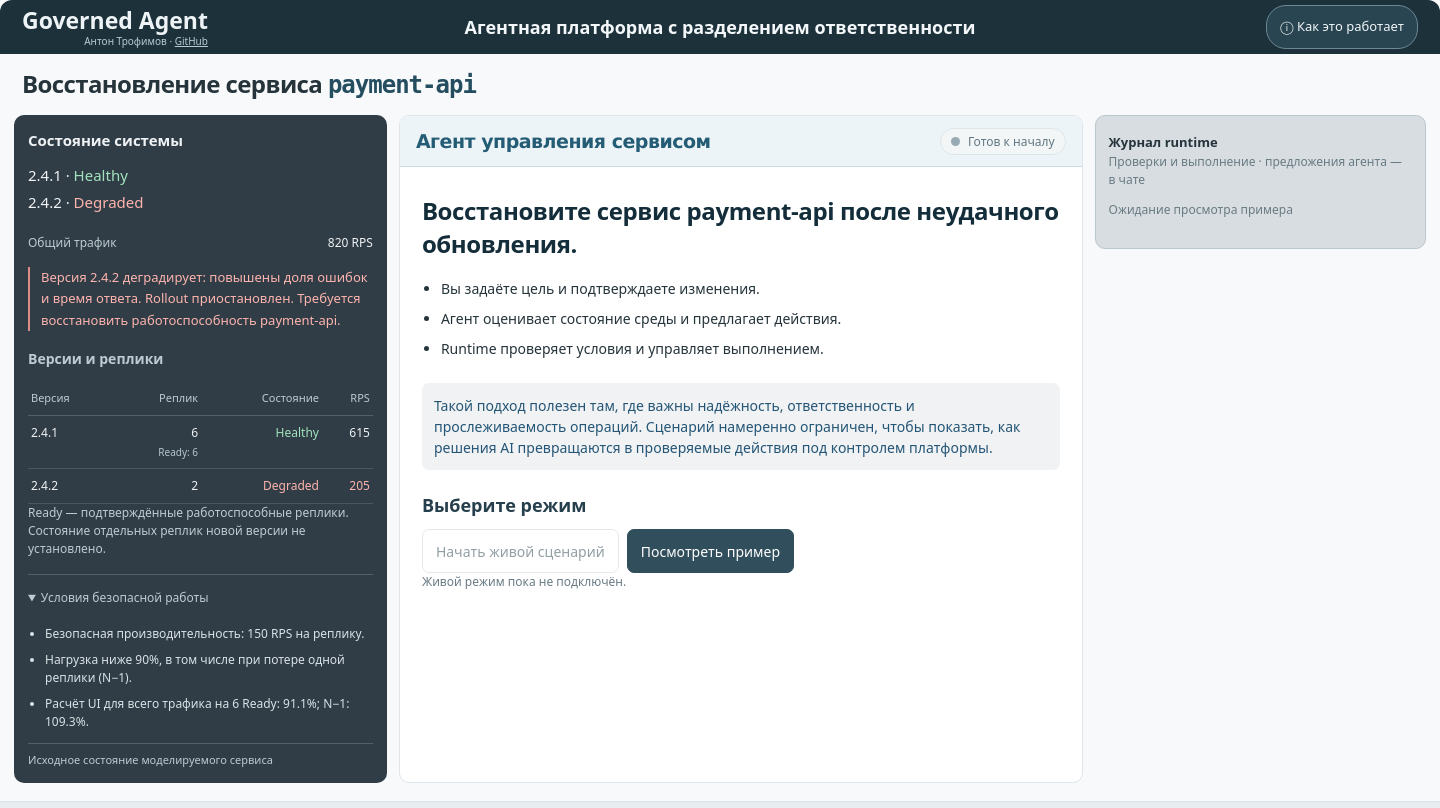
it: replays observations without leaking final state and resets to the initial observation
Click the button "Посмотреть пример". click: (710, 551)
box: [627,529,794,573]
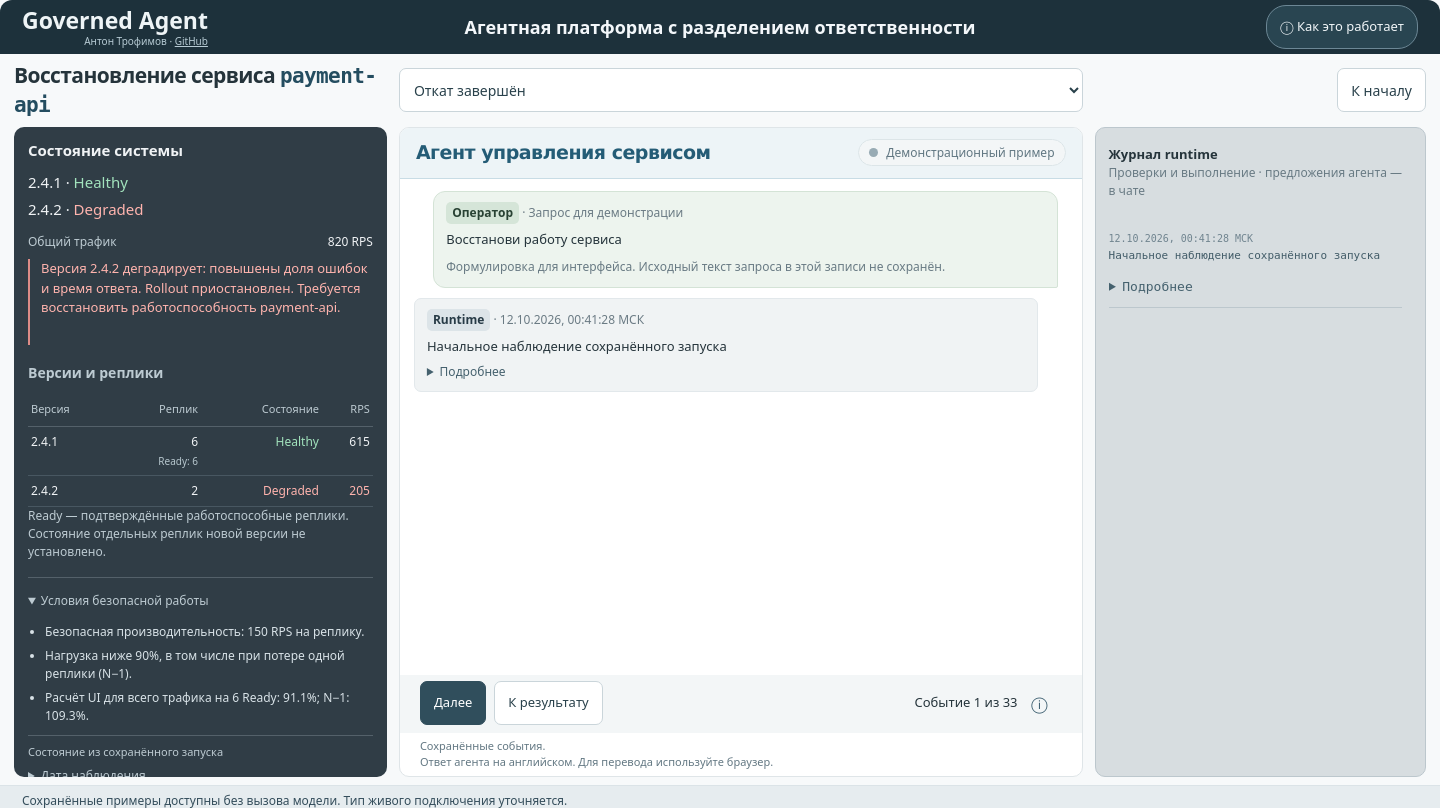
Expected: the text "615" is shown, [349,433,370,450]
Expected: the button "Подтвердить" is not shown
Click the button "Далее". click: (453, 703)
box: [420,681,486,725]
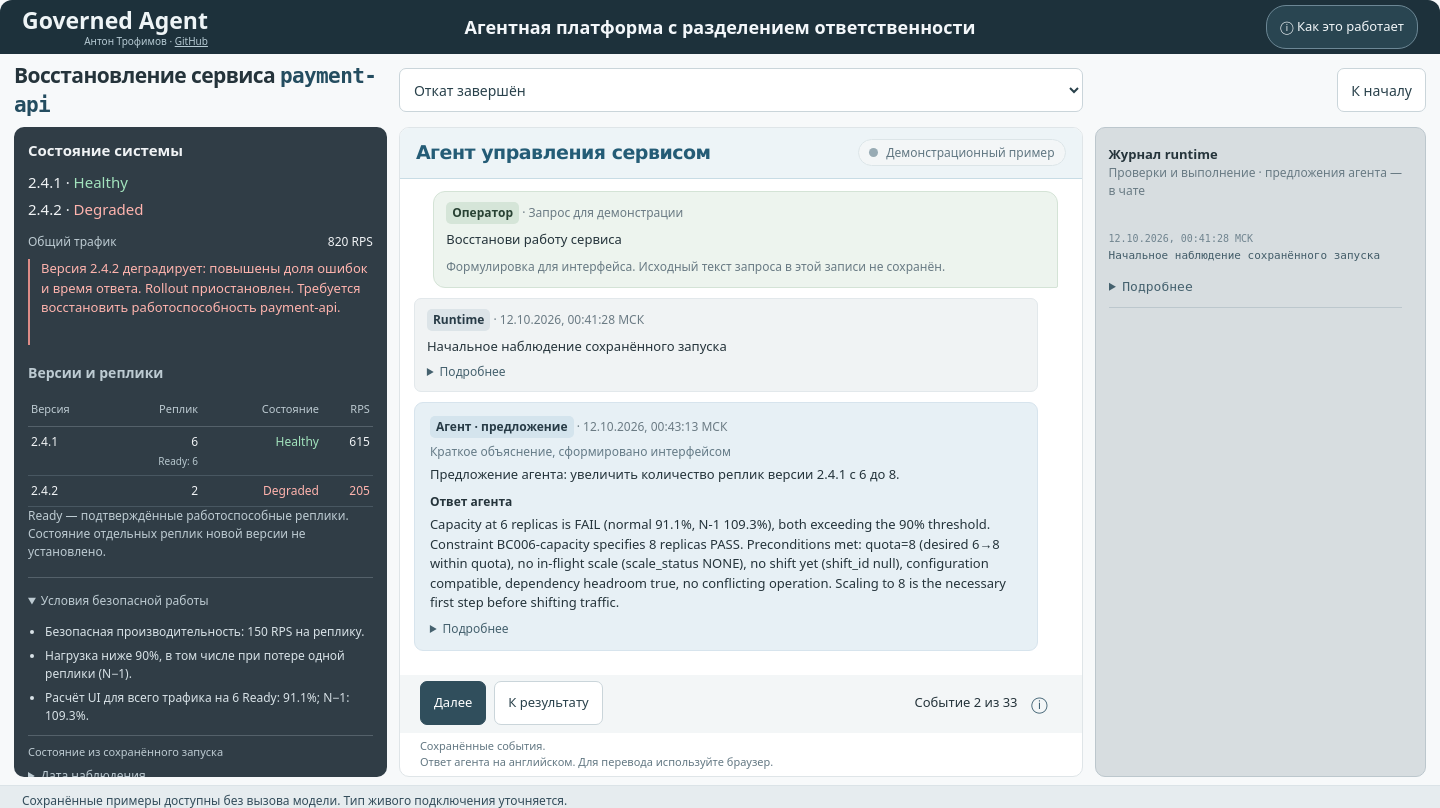
Now the text "Предложение агента: увеличить количество реплик версии 2.4.1 с 6 до 8." is shown, box [430,465,900,483]
Now the text "Capacity at 6 replicas is FAIL (normal 91.1%, N-1 109.3%), both exceeding the 90% threshold. Constraint BC006-capacity s" is shown, box [430,515,1009,611]
Click the button "К результату". click: (549, 703)
box: [494,681,603,725]
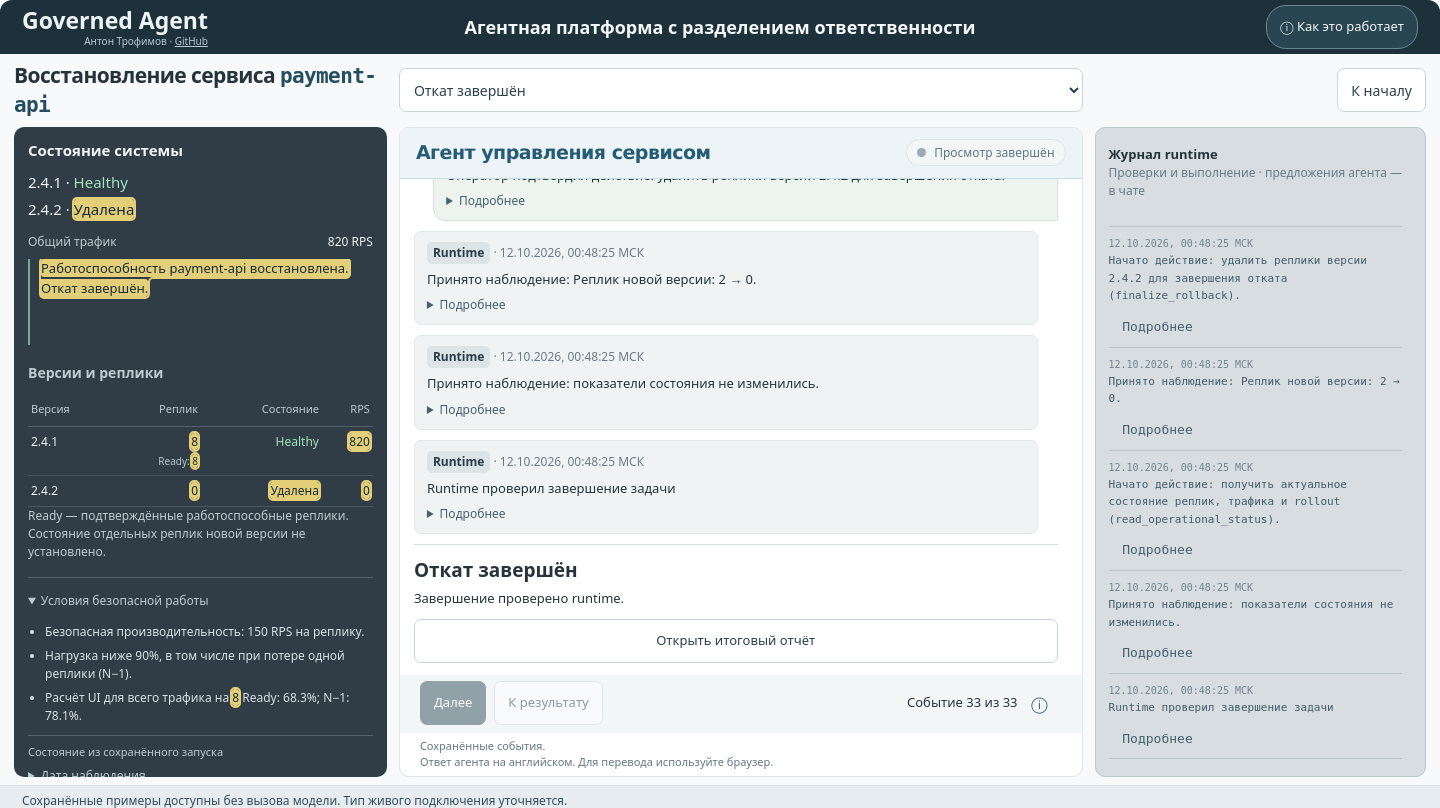
Now the heading "Откат завершён" is shown, box [414,557,578,583]
Now the text "615" is gone
Click the button "К началу". click: (1382, 90)
box: [1337,68,1426,112]
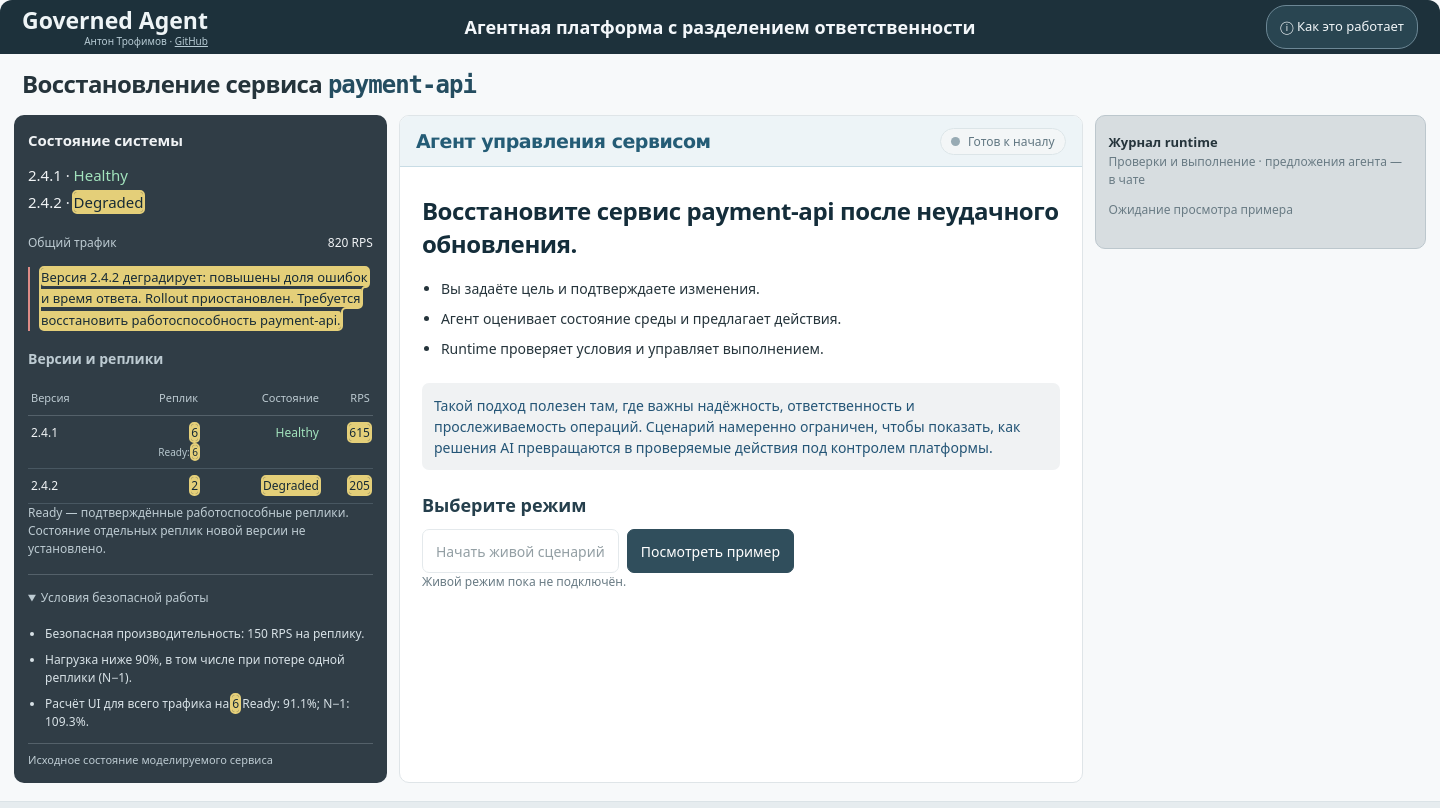
Expected: the text "615" is shown, [349,424,370,441]
Now the text "Откат завершён" is gone
